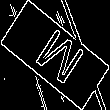M_SW: (25, 21, 85, 89)
